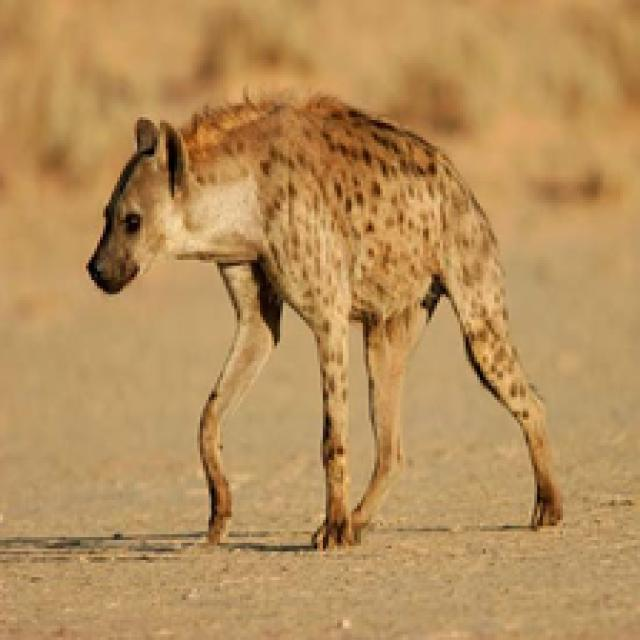hyena: (80, 78, 571, 591)
